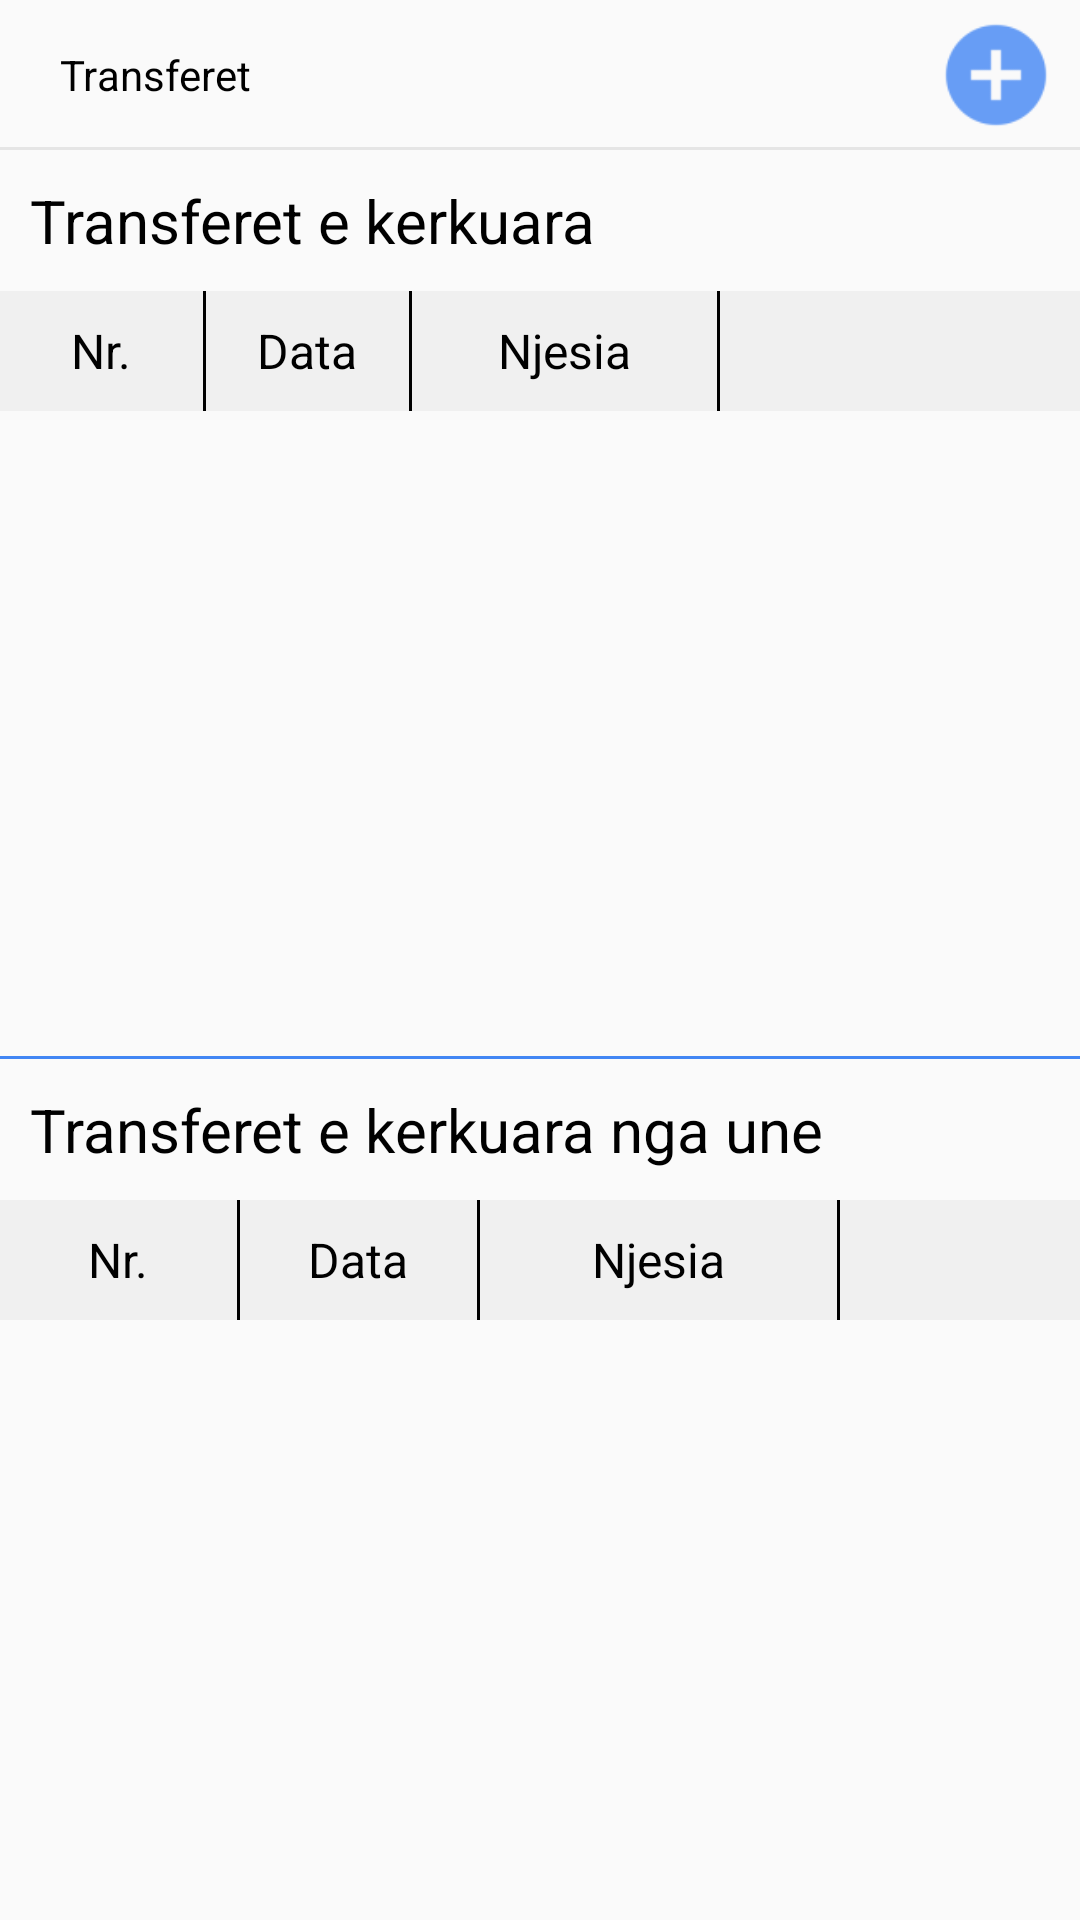

Icon bounding boxes for this 1080 × 1920 phone screenshot, format bbox=(x1, y1, x2, y2):
add: bbox=(945, 24, 1047, 126)
